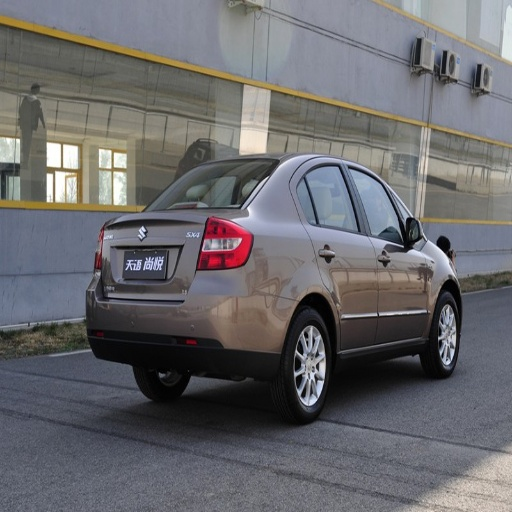back_bumper: (85, 266, 293, 376)
back_right_door: (294, 161, 377, 346)
